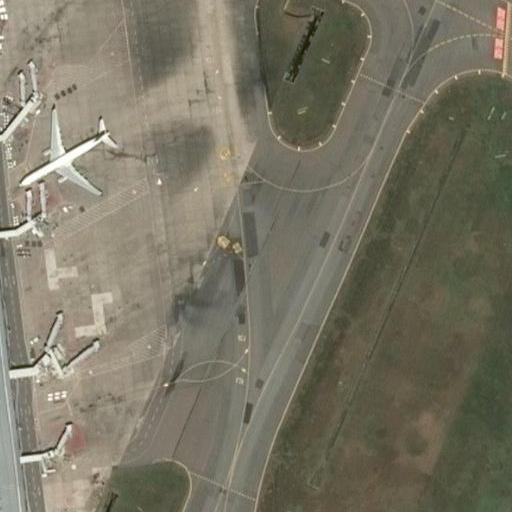Aircraft: (17, 104, 121, 194)
